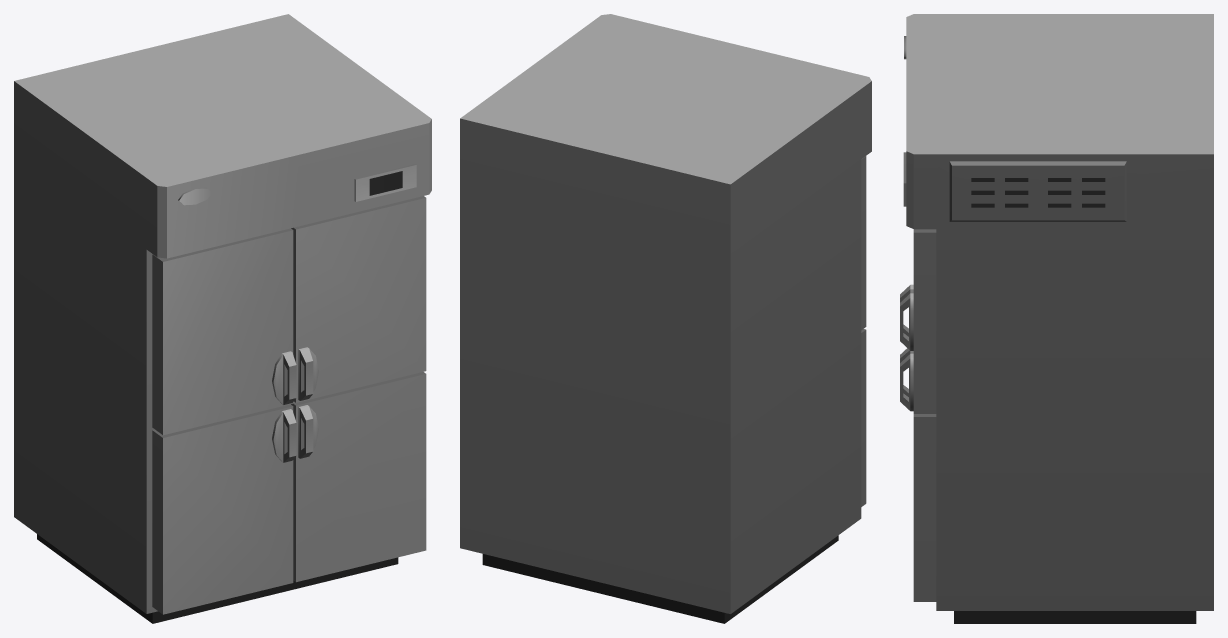
Rendered from CR_caf_fridge_001.FBX.
3 renders of one model, left to right at view 1: azimuth 30°, elevation 25°; view 2: azimuth 150°, elevation 25°; view 3: azimuth 270°, elevation 25°, orthographic. The views are drawn at different scales.
Parts seen in each view (by area): view 1: CR_caf_fridge_001; view 2: CR_caf_fridge_001; view 3: CR_caf_fridge_001.
Boxes of the visible parts, x1,y1,x2,y2 form: CR_caf_fridge_001: (14,14,431,623); CR_caf_fridge_001: (460,14,871,623); CR_caf_fridge_001: (900,14,1213,623).
Bounding box in the file's own units: 106 × 167 × 99.81.
